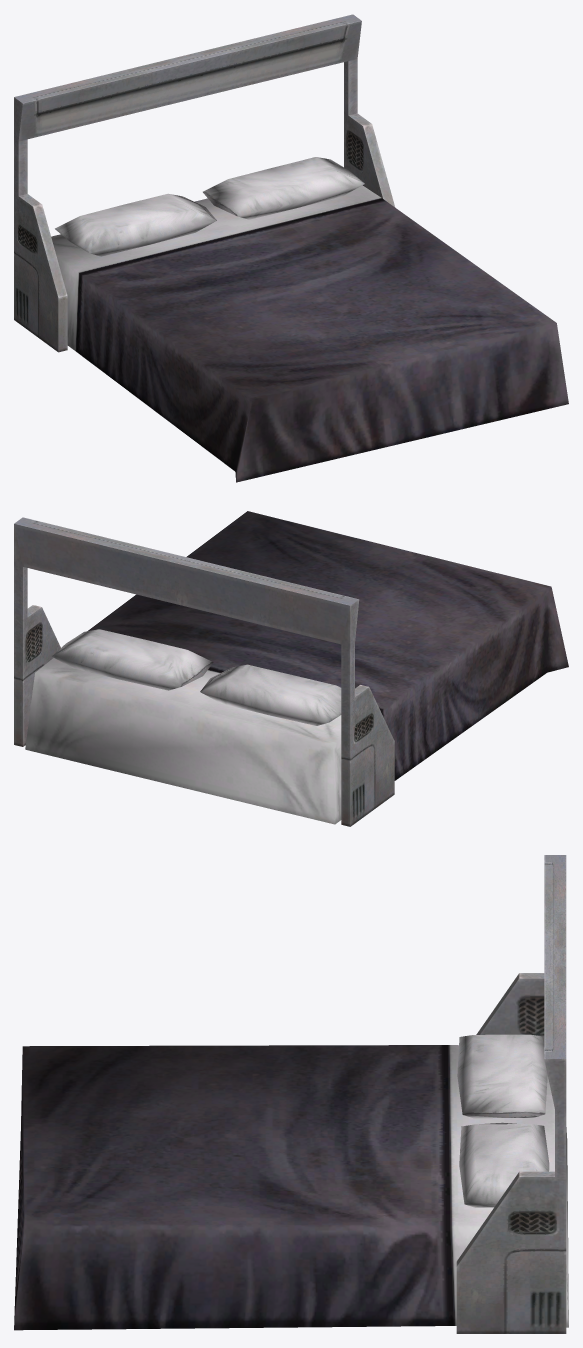
Rendered from frn_all_bed_lg_s2_l1.fbx.
3 views of the same model, one above another, from view 1: azimuth 30°, elevation 25°; view 2: azimuth 150°, elevation 25°; view 3: azimuth 270°, elevation 25° (orthographic). The views are drawn at different scales.
Visible parts, largest first — view 1: mesh_node; view 2: mesh_node; view 3: mesh_node.
Part boxes in pixels (x1=…): mesh_node: x1=14, y1=14, x2=568, y2=482; mesh_node: x1=14, y1=511, x2=568, y2=826; mesh_node: x1=14, y1=855, x2=568, y2=1333.
Size of the model in its own units: 1.72 by 1.09 by 1.98.
